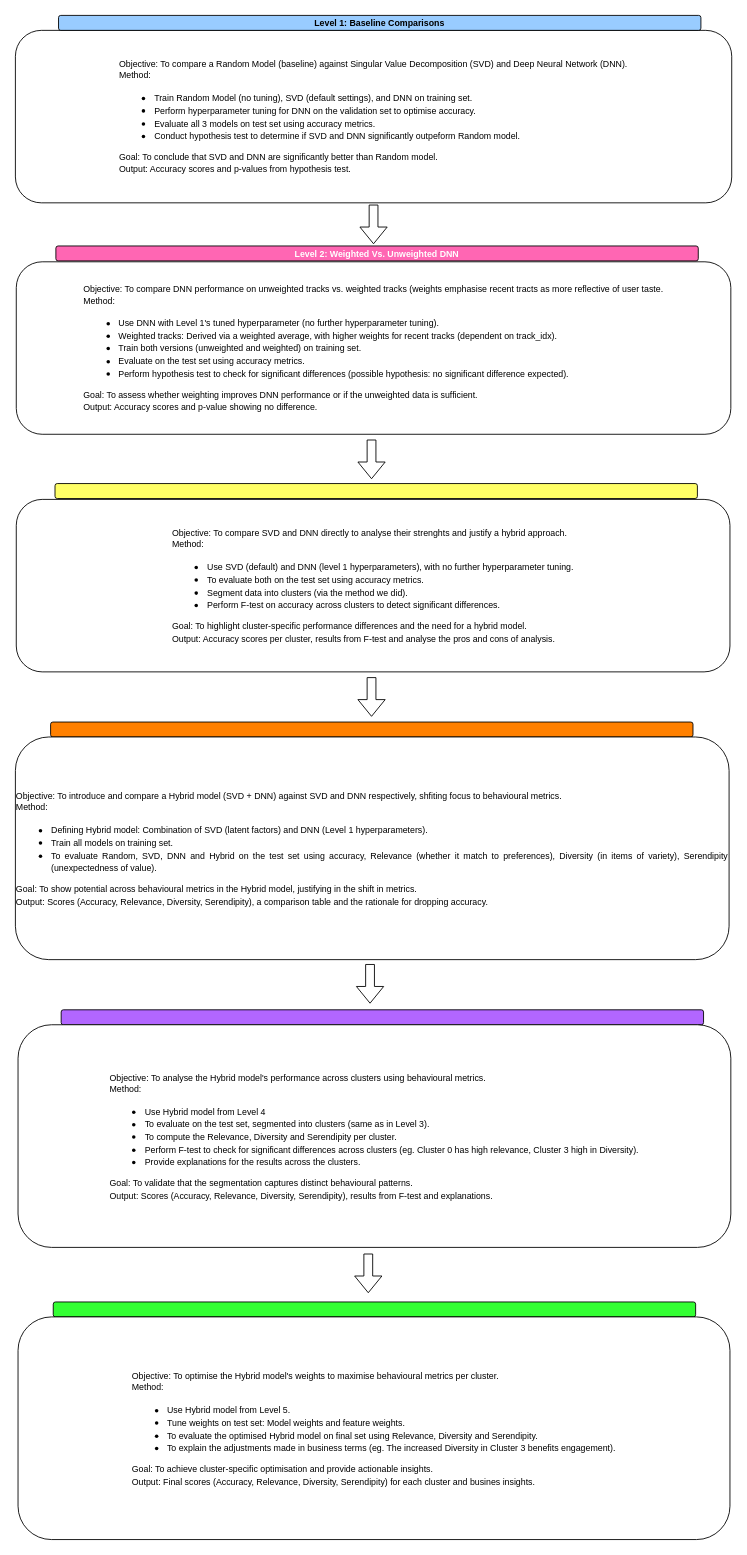
Image size: 747x1555. Some labels were removed from this diagram. Each missing label, with the centre of its shape:
Level 3: SVD Vs. DNN: [375,491]
Level 4: Introduction of Hybrid Model: [371,729]
Level 5: Cluster Analysis of Hybrid Model: [382,1017]
Level 6: Optimisation of Model: [374,1309]
